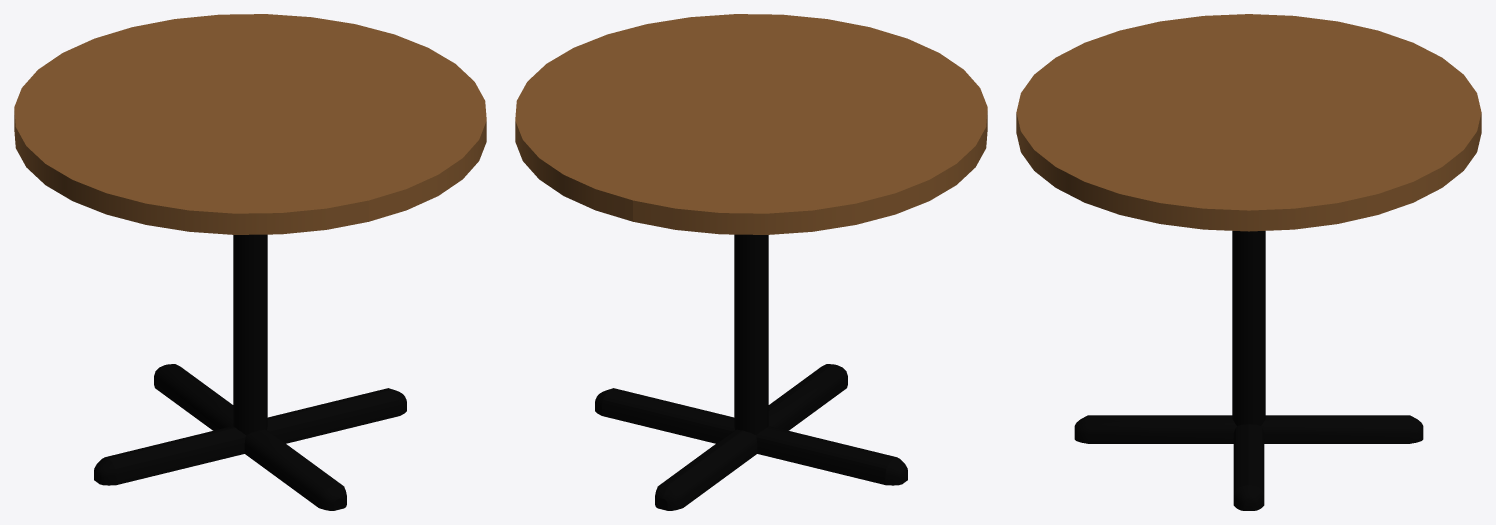
The model's file is Table.fbx.
The picture shows the model from 3 angles, left to right: view 1: azimuth 30°, elevation 25°; view 2: azimuth 150°, elevation 25°; view 3: azimuth 270°, elevation 25°; orthographic projection.
Visible parts, largest first — view 1: Table; view 2: Table; view 3: Table.
Boxes of the visible parts, x1,y1,x2,y2 form: Table: [14, 14, 486, 510]; Table: [515, 14, 987, 510]; Table: [1016, 14, 1481, 510].
Bounding box in the file's own units: 386 × 298 × 386.
